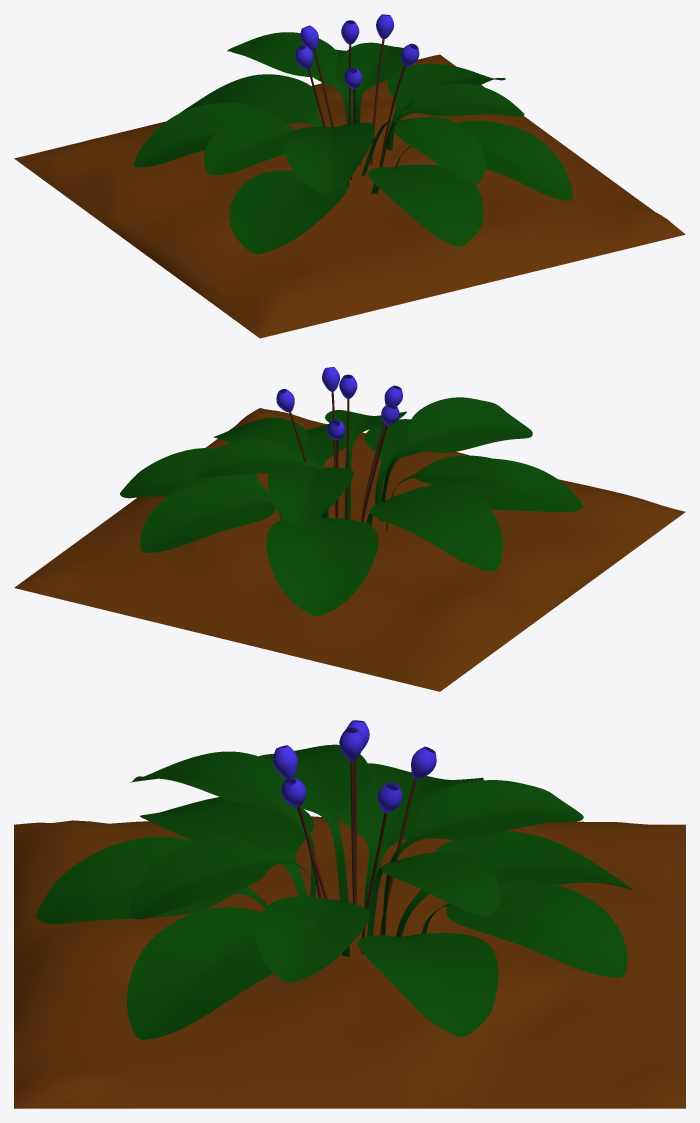
File: violets-p2-bloom.glb
3 renders of one model, top to bottom at view 1: azimuth 30°, elevation 25°; view 2: azimuth 150°, elevation 25°; view 3: azimuth 270°, elevation 25°, orthographic. The views are drawn at different scales.
Visible parts, largest first — view 1: 2_nft_bloom; view 2: 2_nft_bloom; view 3: 2_nft_bloom.
Boxes of the visible parts, bbox=[...] form: 2_nft_bloom: bbox=[14, 14, 685, 338]; 2_nft_bloom: bbox=[14, 367, 685, 691]; 2_nft_bloom: bbox=[14, 720, 685, 1108].
Bounding box in the file's own units: 0.7 × 0.2724 × 0.7.
